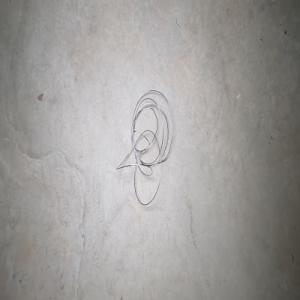Wire: (115, 89, 172, 205)
